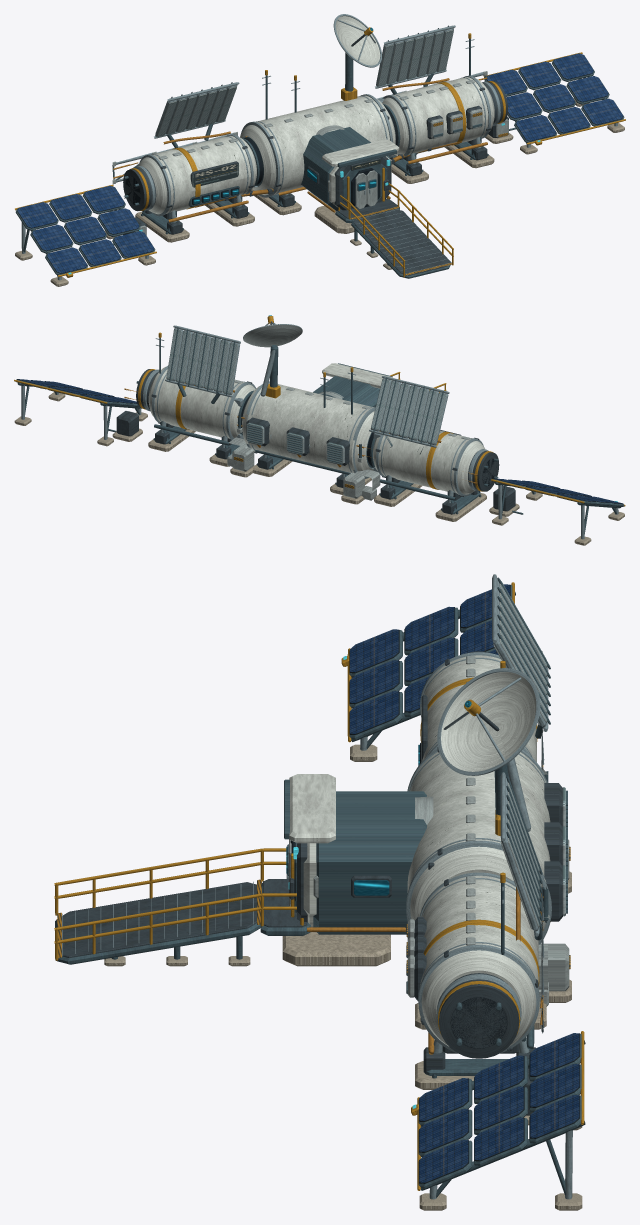
The model's file is base-terrestre-ns-02.glb.
3 renders of one model, top to bottom at view 1: azimuth 30°, elevation 25°; view 2: azimuth 150°, elevation 25°; view 3: azimuth 270°, elevation 25°, orthographic. The views are drawn at different scales.
Parts seen in each view (by area): view 1: Módulos, equipos y fundaciones; view 2: Módulos, equipos y fundaciones; view 3: Módulos, equipos y fundaciones.
Part boxes in pixels (bbox=[...]): Módulos, equipos y fundaciones: bbox=[15, 14, 625, 286]; Módulos, equipos y fundaciones: bbox=[14, 315, 625, 545]; Módulos, equipos y fundaciones: bbox=[54, 574, 585, 1210].
Bounding box in the file's own units: 37.58 × 9.75 × 15.61.
6 materials, 6 textured.
